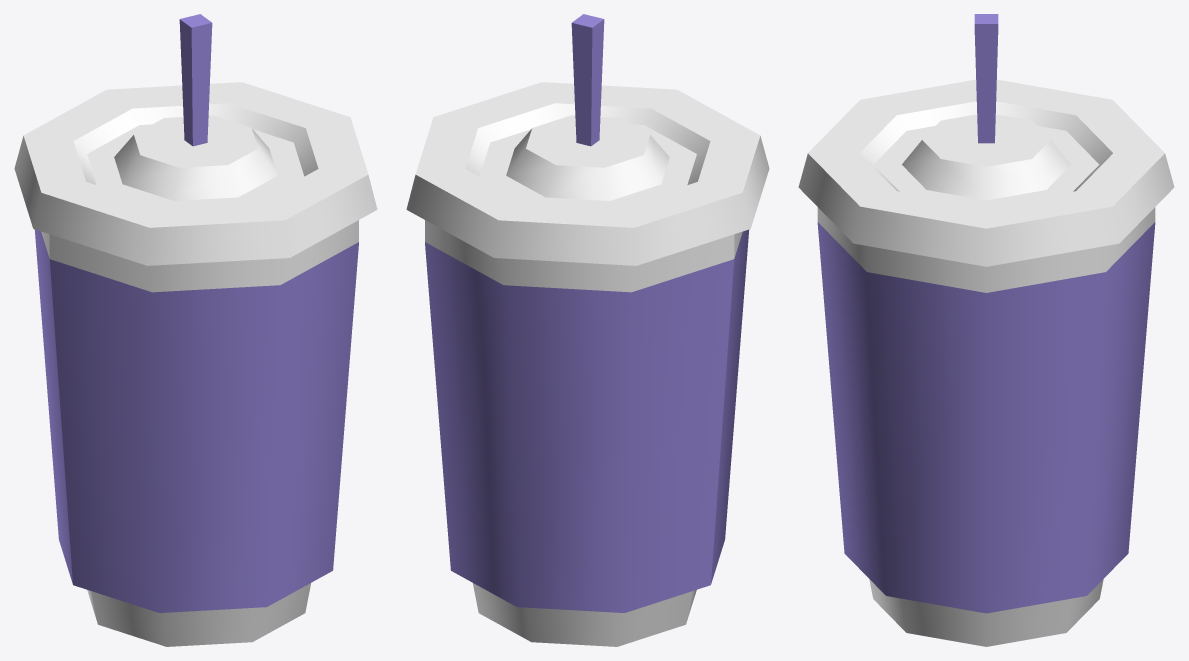
Rendered from soda.GLB.
The picture shows the model from 3 angles, left to right: view 1: azimuth 30°, elevation 25°; view 2: azimuth 150°, elevation 25°; view 3: azimuth 270°, elevation 25°; orthographic projection.
Parts seen in each view (by area): view 1: soda; view 2: soda; view 3: soda.
Boxes of the visible parts, x1=… form: soda: x1=14, y1=14, x2=377, y2=646; soda: x1=406, y1=14, x2=769, y2=646; soda: x1=798, y1=14, x2=1174, y2=646.
Size of the model in its own units: 0.2541 by 0.4324 by 0.2541.
